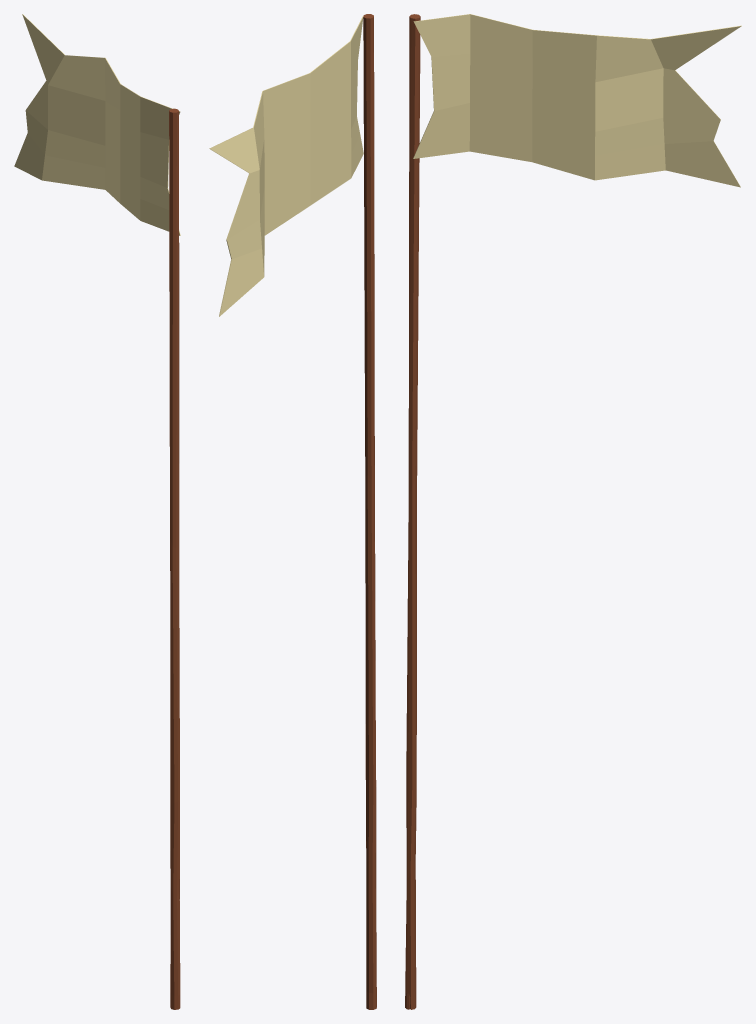
File: Big Flag.fbx
The picture shows the model from 3 angles, left to right: view 1: azimuth 30°, elevation 25°; view 2: azimuth 150°, elevation 25°; view 3: azimuth 270°, elevation 25°; orthographic projection. The views are drawn at different scales.
Parts seen in each view (by area): view 1: Big Flag; view 2: Big Flag; view 3: Big Flag.
Part boxes in pixels (x1,y1,x2,y2): Big Flag: (14, 14, 180, 1009); Big Flag: (209, 14, 376, 1009); Big Flag: (405, 14, 741, 1009).
Bounding box in the file's own units: 25.36 × 663 × 204.
